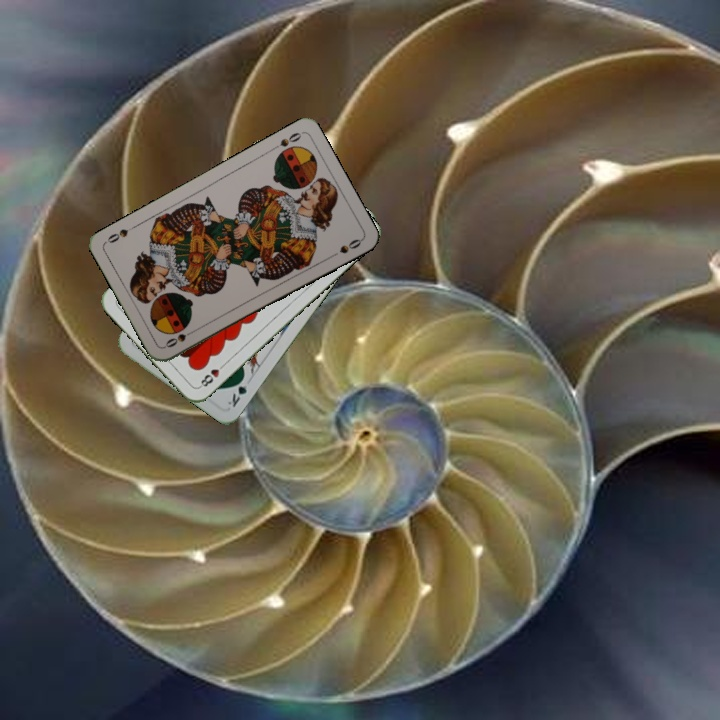GK: (224, 372, 250, 410)
H8: (195, 359, 228, 390)
SO: (267, 128, 304, 154), (161, 325, 199, 350)
